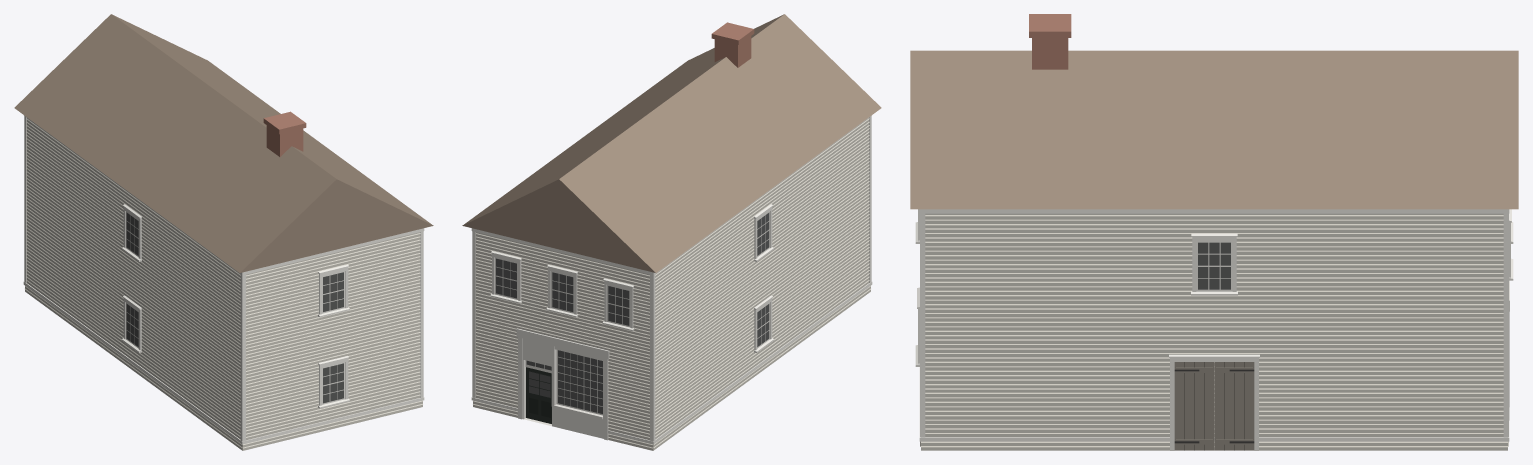
Rendered from recon_1835_core_c3_027__inferred_1835.glb.
The picture shows the model from 3 angles, left to right: view 1: azimuth 30°, elevation 25°; view 2: azimuth 150°, elevation 25°; view 3: azimuth 270°, elevation 25°; orthographic projection. The views are drawn at different scales.
Visible parts, largest first — view 1: recon_1835_core_c3_027__inferred_1835; view 2: recon_1835_core_c3_027__inferred_1835; view 3: recon_1835_core_c3_027__inferred_1835.
Part boxes in pixels (left/top/right/bottom): recon_1835_core_c3_027__inferred_1835: left=14, top=14, right=433, bottom=450; recon_1835_core_c3_027__inferred_1835: left=462, top=14, right=881, bottom=450; recon_1835_core_c3_027__inferred_1835: left=910, top=14, right=1518, bottom=450.
Bounding box in the file's own units: 7.02 × 9.45 × 14.15.
